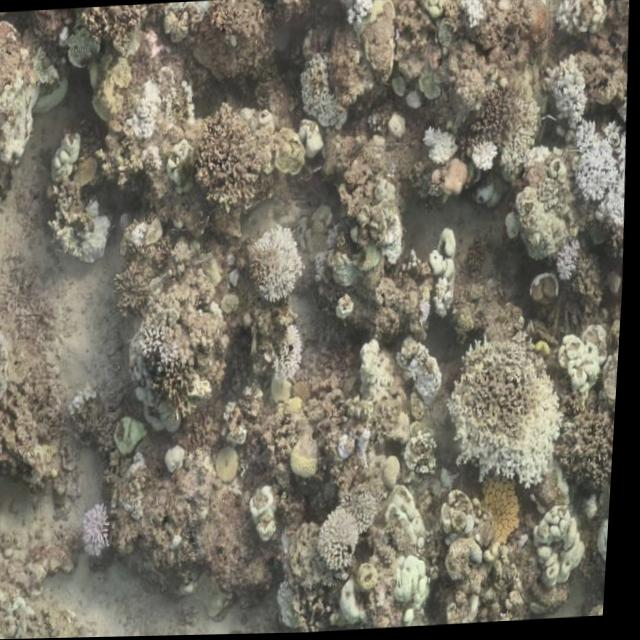Bleached Coral: (439, 362, 577, 488), (557, 113, 631, 216), (539, 40, 605, 125), (253, 218, 309, 318), (411, 230, 468, 318), (118, 63, 170, 159), (283, 64, 351, 136), (311, 504, 378, 575), (123, 313, 178, 398), (70, 189, 127, 270), (394, 334, 447, 412), (415, 108, 463, 182), (81, 492, 122, 568), (370, 200, 407, 281), (267, 332, 310, 400), (463, 126, 510, 185), (334, 0, 388, 36), (456, 0, 488, 39)
